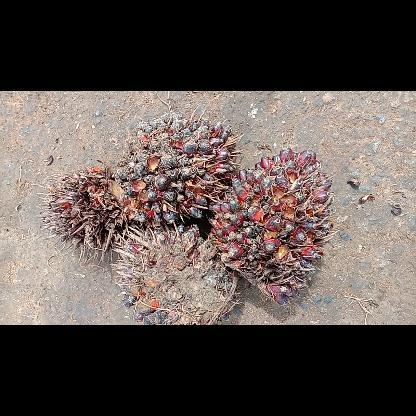TBS abnormal: (210, 147, 336, 304), (115, 108, 240, 224), (112, 224, 238, 324), (37, 164, 164, 262)
